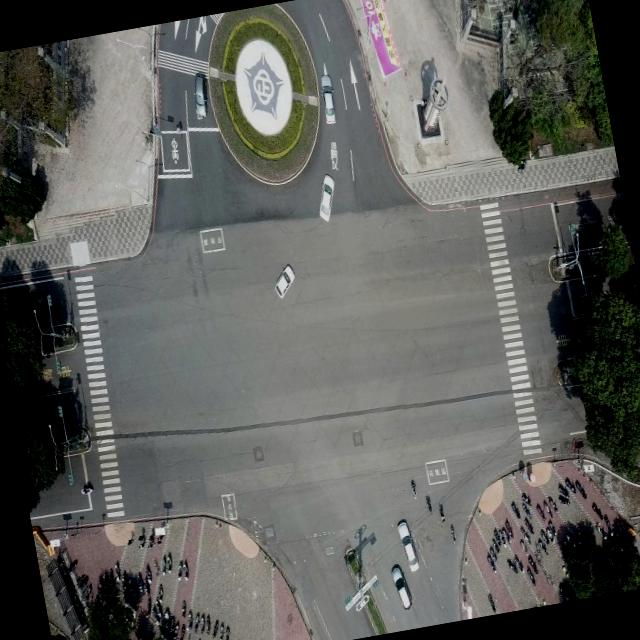bike: (79, 481, 94, 498), (409, 477, 418, 499), (448, 522, 456, 543), (424, 494, 432, 514), (438, 501, 444, 521)
car: (314, 60, 338, 124), (312, 172, 341, 224), (188, 70, 212, 120), (396, 516, 418, 570), (389, 562, 413, 611), (270, 262, 298, 299)
